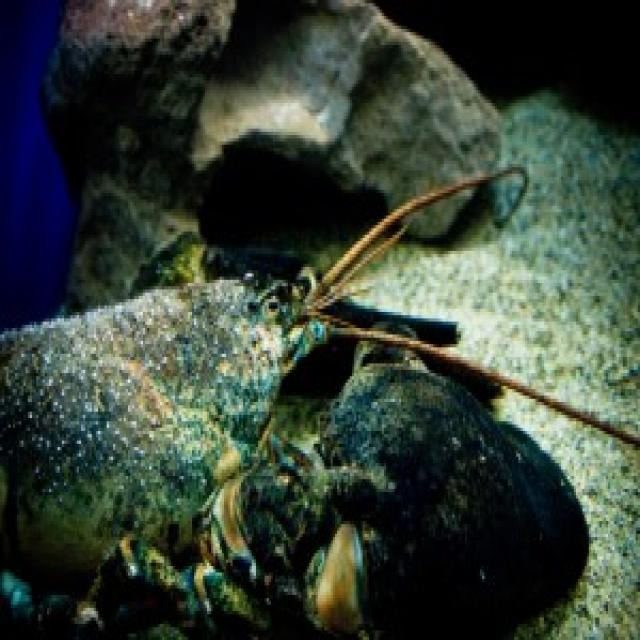lobsters: (11, 197, 540, 640)
